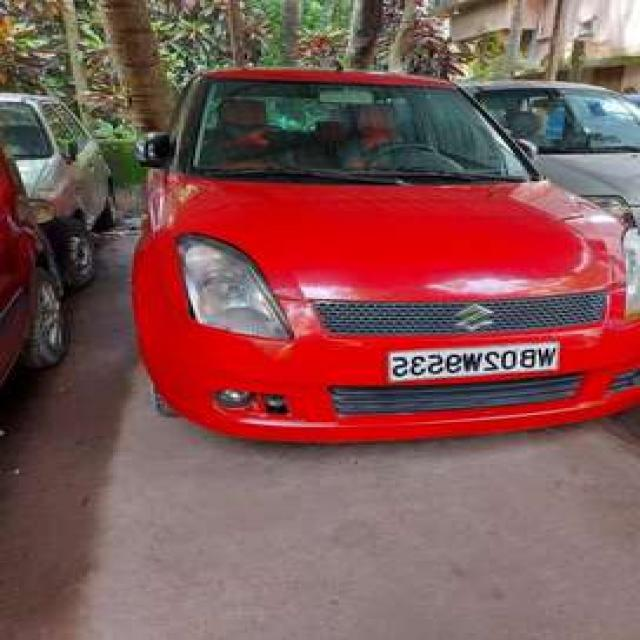license_plate: (377, 337, 563, 389)
